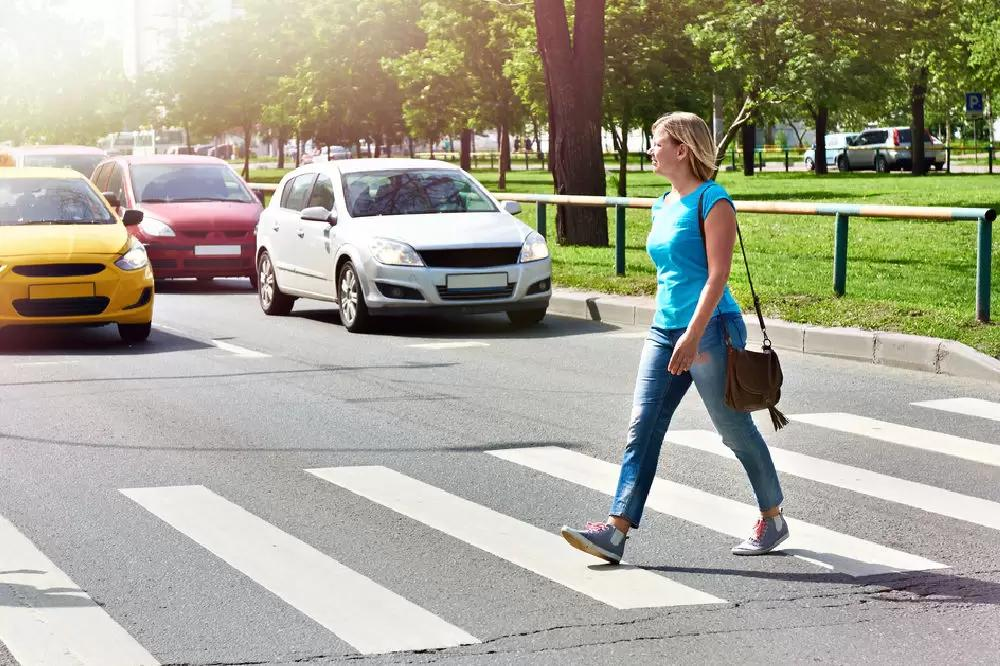car: (255, 161, 557, 337), (0, 170, 160, 355), (94, 153, 272, 291), (833, 129, 945, 176), (0, 144, 106, 179)
pedestrian: (566, 116, 792, 569)
